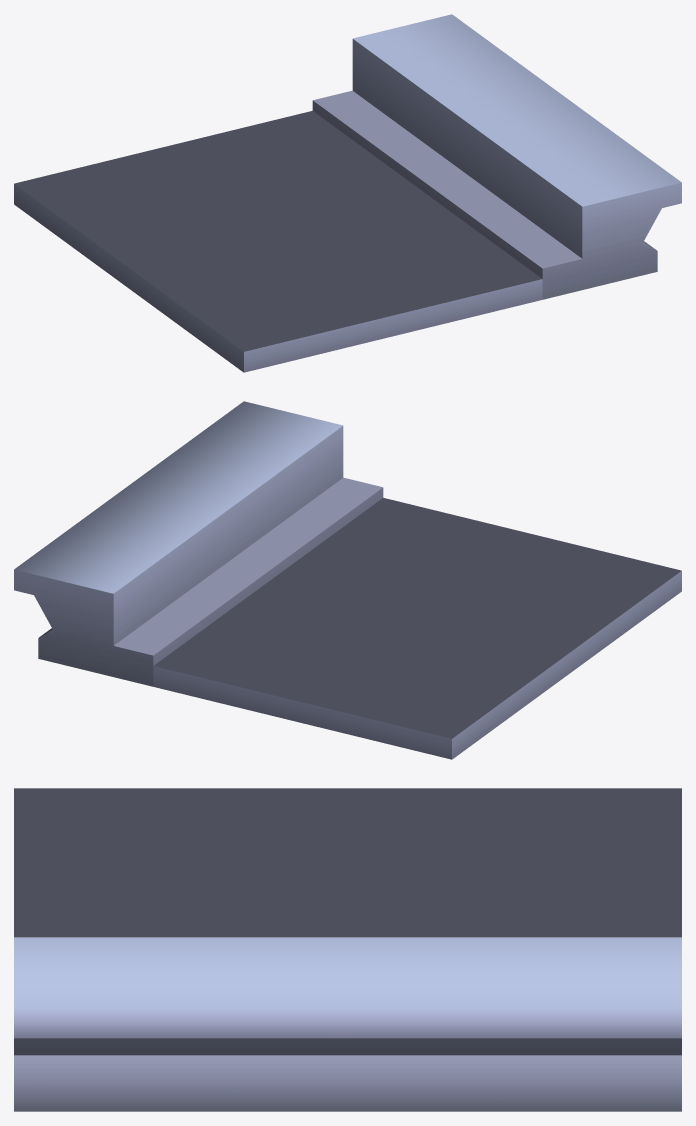
The model's file is kenney-building-roof-flat-side.glb.
3 views of the same model, one above another, from view 1: azimuth 30°, elevation 25°; view 2: azimuth 150°, elevation 25°; view 3: azimuth 270°, elevation 25° (orthographic). The views are drawn at different scales.
Parts seen in each view (by area): view 1: roof-flat-side; view 2: roof-flat-side; view 3: roof-flat-side.
Boxes of the visible parts, <box> form: roof-flat-side: <box>14,14,681,372</box>; roof-flat-side: <box>14,401,681,759</box>; roof-flat-side: <box>14,788,681,1111</box>.
Size of the model in its own units: 2.2 by 0.3999 by 2.
Materials: 1 (1 with a texture image).
